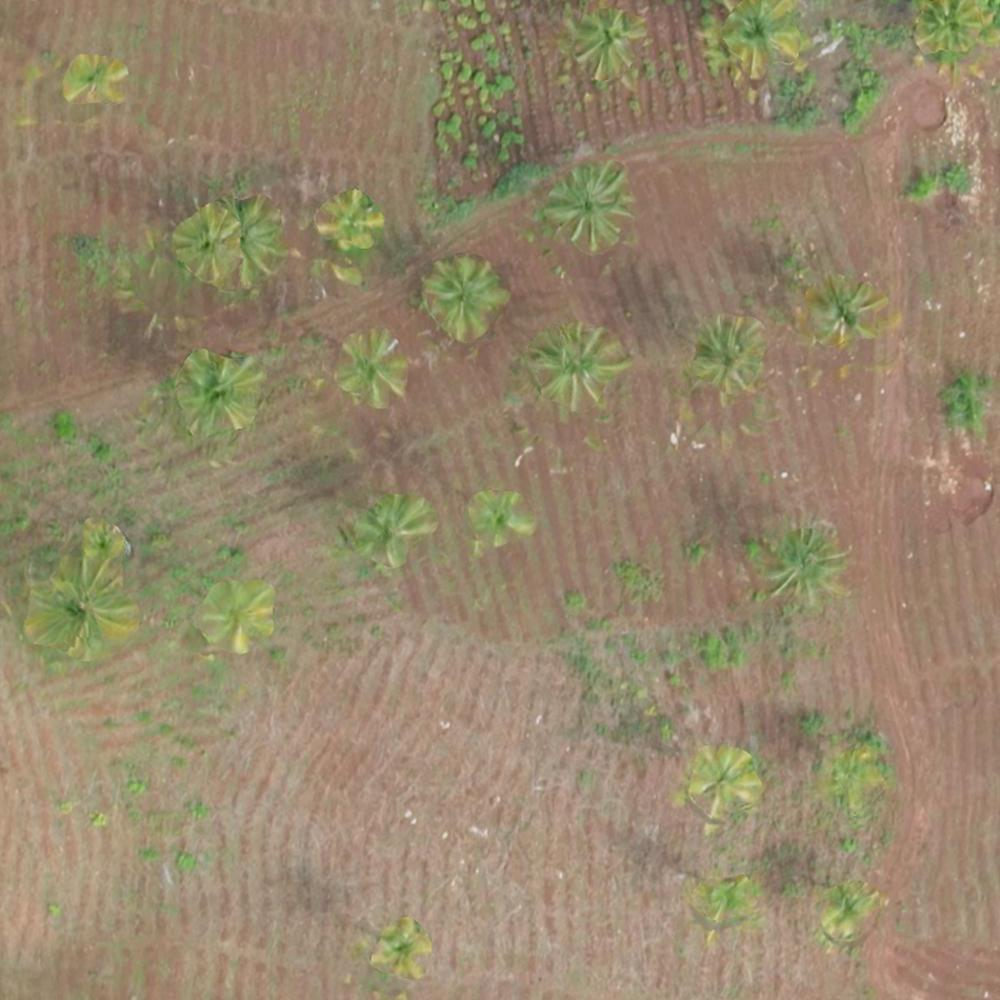Palm: (24, 560, 130, 651), (529, 323, 618, 412), (755, 522, 849, 602), (546, 161, 627, 249), (175, 352, 259, 434), (331, 329, 411, 410), (724, 1, 804, 80), (419, 255, 500, 333), (349, 495, 430, 571), (571, 5, 647, 83), (683, 736, 758, 815), (687, 315, 763, 390), (804, 276, 882, 347), (177, 205, 246, 282), (200, 581, 278, 648), (470, 481, 535, 551), (314, 191, 382, 250), (64, 49, 128, 104), (371, 917, 429, 977)
